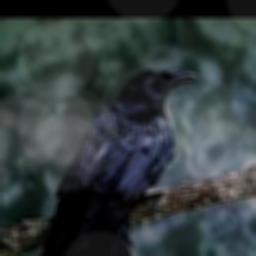Crow: (39, 68, 198, 256)
